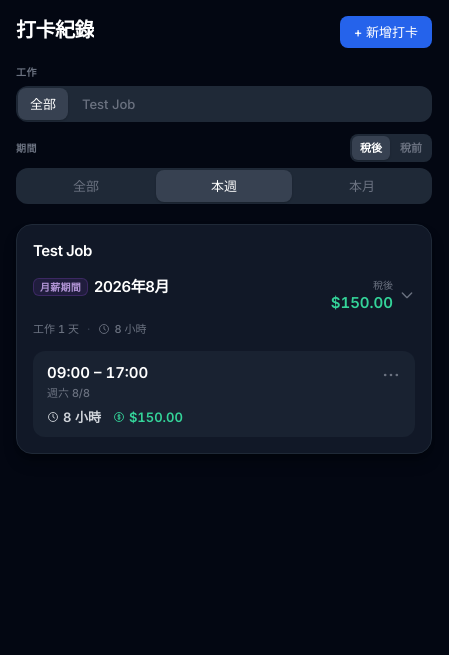
Scenario: RecordsPage — 備註欄位 › 新增表單顯示備註欄位
Click the button "+ 新增打卡" at (386, 32), box x1=340 y1=16 x2=432 y2=48
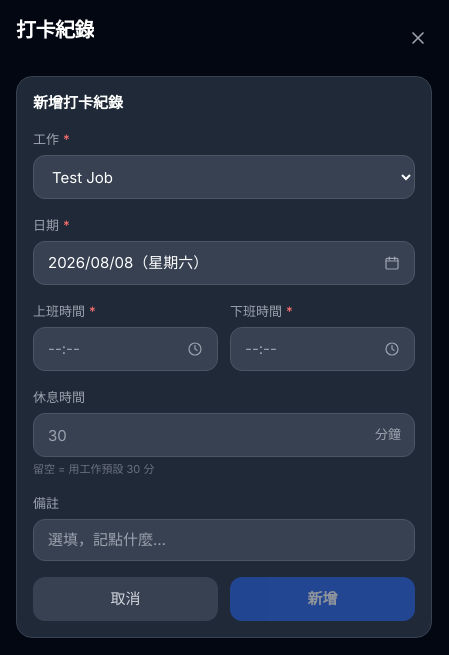
Now the text box with placeholder "選填，記點什麼…" is shown, box x1=33 y1=519 x2=415 y2=561
